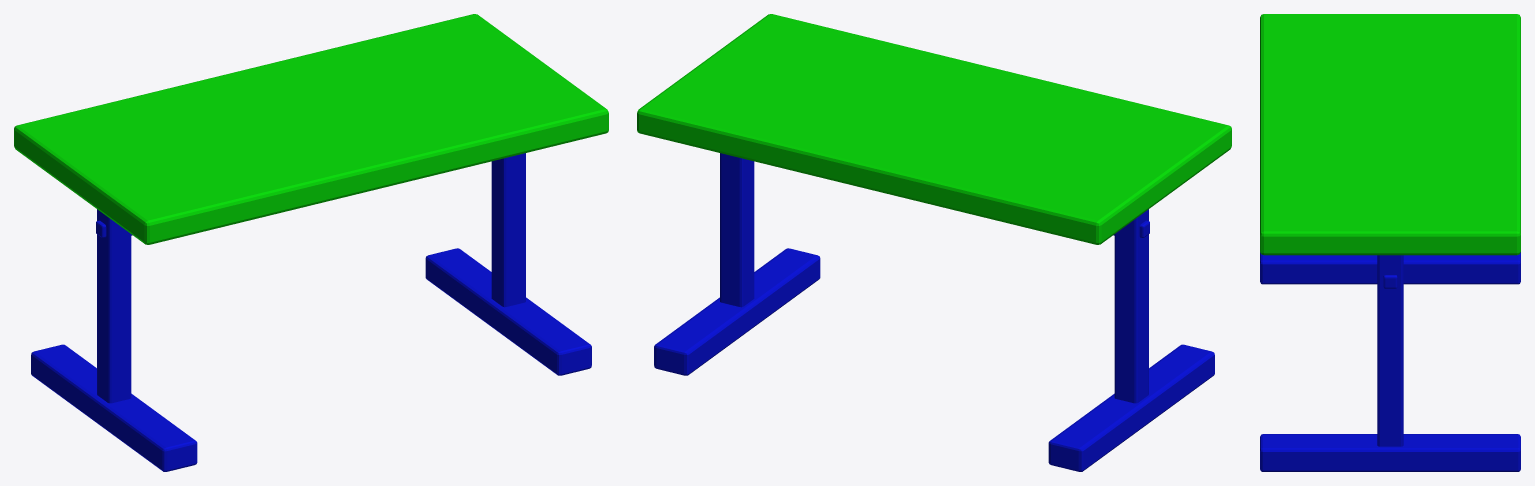
File: Table.fbx
3 views of the same model, side by side, from view 1: azimuth 30°, elevation 25°; view 2: azimuth 150°, elevation 25°; view 3: azimuth 270°, elevation 25° (orthographic). The views are drawn at different scales.
Parts seen in each view (by area): view 1: table; view 2: table; view 3: table.
Boxes of the visible parts, x1,y1,x2,y2 form: table: [14, 14, 608, 471]; table: [637, 14, 1231, 471]; table: [1260, 14, 1520, 471].
Size of the model in its own units: 200 by 105 by 100.
